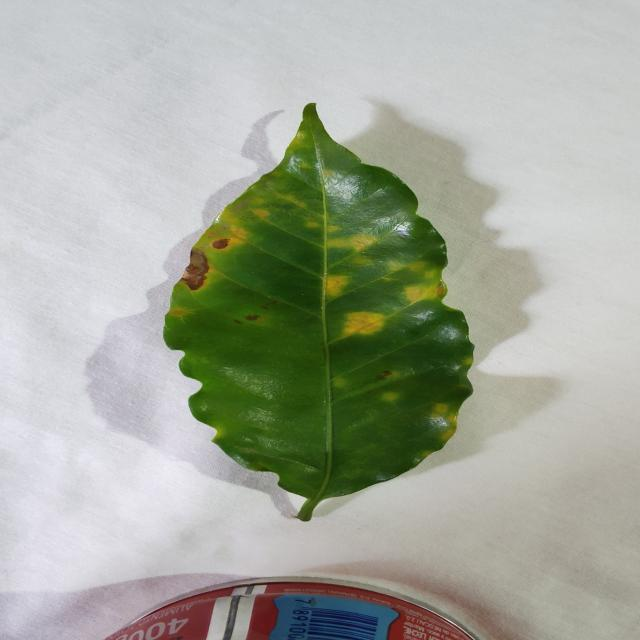Enfermedad-Roya: (162, 104, 475, 522)
